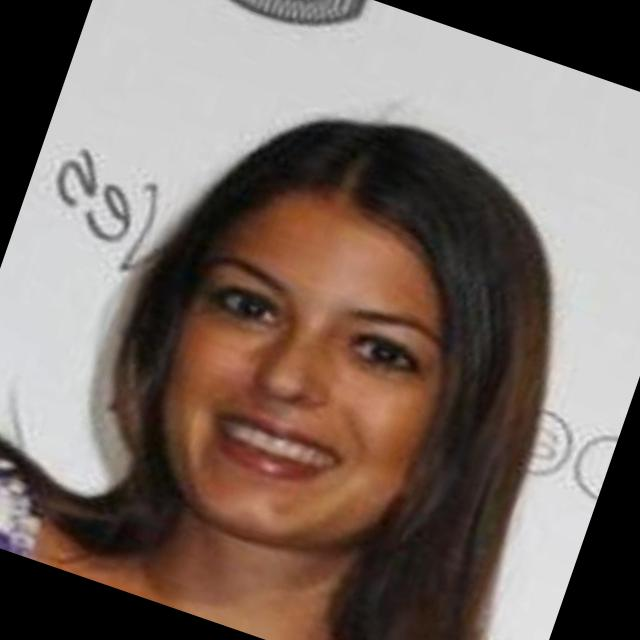bareface: (127, 86, 555, 584)
